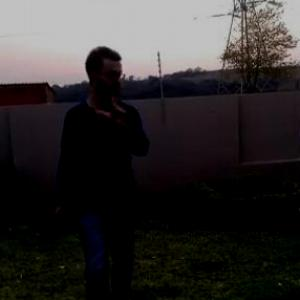land_hand: (100, 81, 136, 129)
